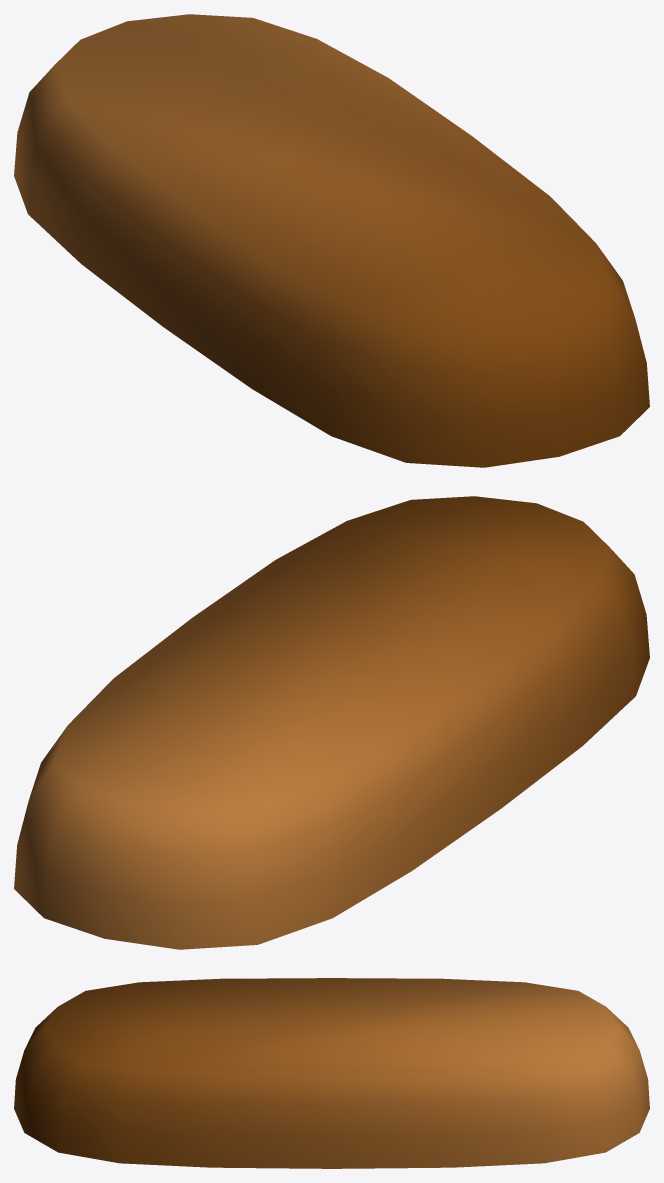
Rendered from Bread_2 Tall Half_2.fbx.
3 renders of one model, top to bottom at view 1: azimuth 30°, elevation 25°; view 2: azimuth 150°, elevation 25°; view 3: azimuth 270°, elevation 25°, orthographic. The views are drawn at different scales.
Parts seen in each view (by area): view 1: Bread_2 Tall Half_2; view 2: Bread_2 Tall Half_2; view 3: Bread_2 Tall Half_2.
Part boxes in pixels (<box>): Bread_2 Tall Half_2: <box>14,14,649,467</box>; Bread_2 Tall Half_2: <box>14,496,649,949</box>; Bread_2 Tall Half_2: <box>14,978,649,1168</box>.
Size of the model in its own units: 0.089 by 0.0311 by 0.2078.
